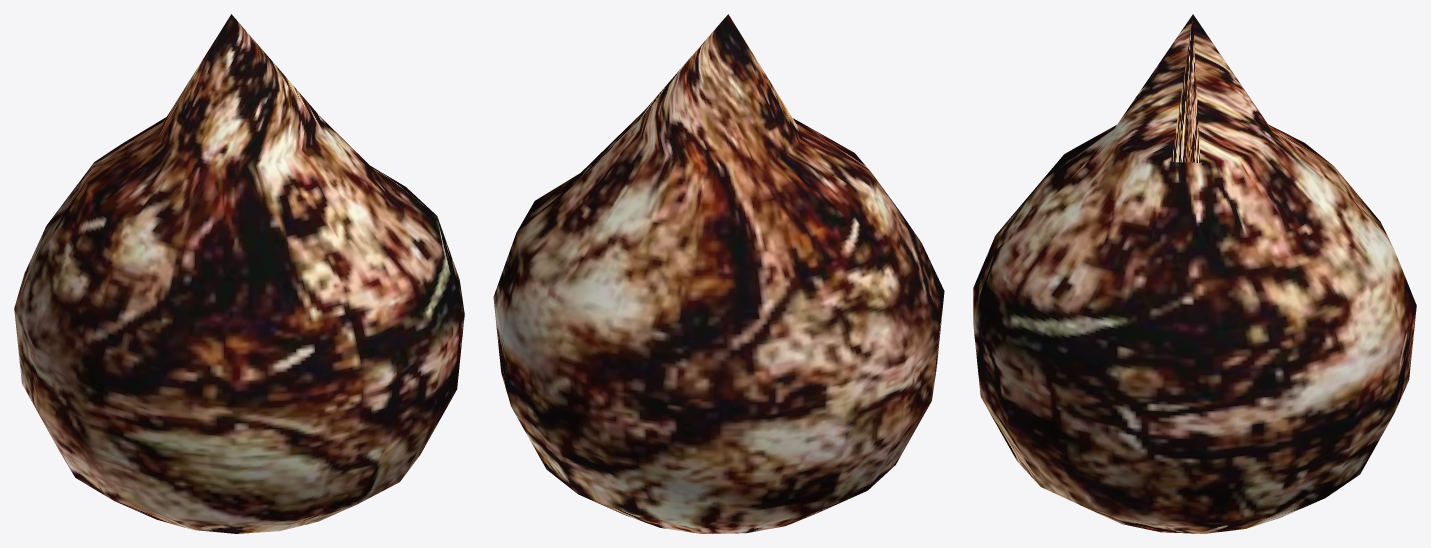
File: ONION.glb
3 views of the same model, side by side, from view 1: azimuth 30°, elevation 25°; view 2: azimuth 150°, elevation 25°; view 3: azimuth 270°, elevation 25° (orthographic).
Parts seen in each view (by area): view 1: Mesh; view 2: Mesh; view 3: Mesh.
Boxes of the visible parts, x1,y1,x2,y2 form: Mesh: (14,14,464,533); Mesh: (493,14,944,533); Mesh: (973,14,1416,533).
Bounding box in the file's own units: 0.3121 × 0.3736 × 0.3108.
1 material, 1 textured.
